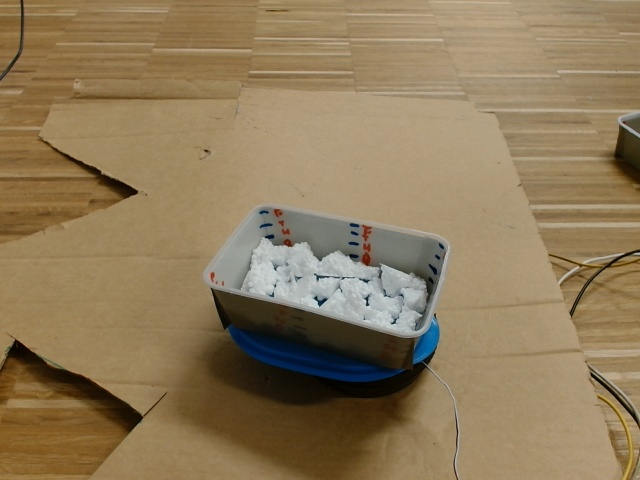Small_quarter: (205, 202, 448, 345)
